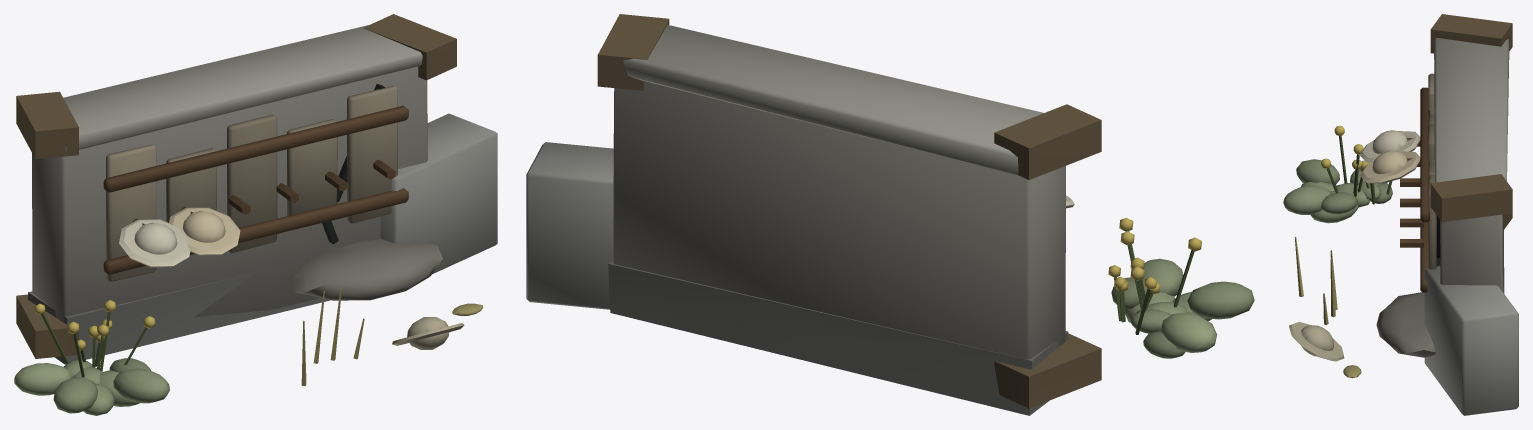
File: hardhat_rack_c.glb
The picture shows the model from 3 angles, left to right: view 1: azimuth 30°, elevation 25°; view 2: azimuth 150°, elevation 25°; view 3: azimuth 270°, elevation 25°; orthographic projection. The views are drawn at different scales.
Parts seen in each view (by area): view 1: Surface; view 2: Surface; view 3: Surface.
Boxes of the visible parts, x1,y1,x2,y2 form: Surface: (14, 14, 497, 415); Surface: (526, 14, 1254, 415); Surface: (1283, 14, 1518, 415).
Size of the model in its own units: 6.64 by 2.9 by 2.96.
